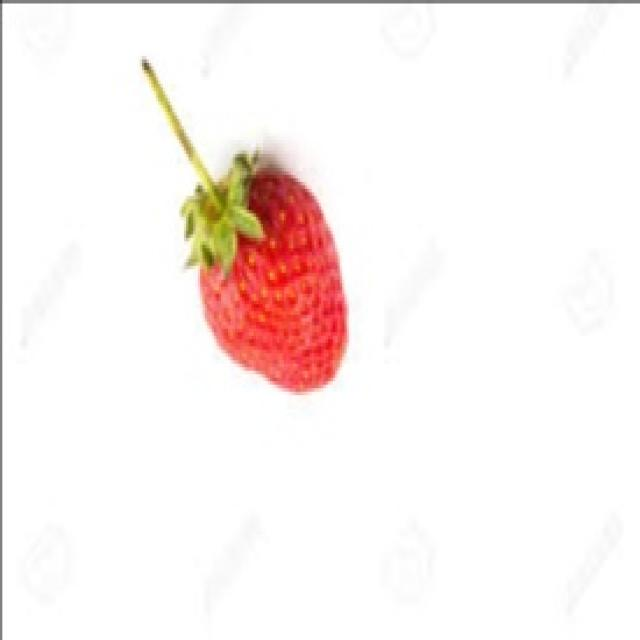strawberry: (108, 30, 350, 422)
